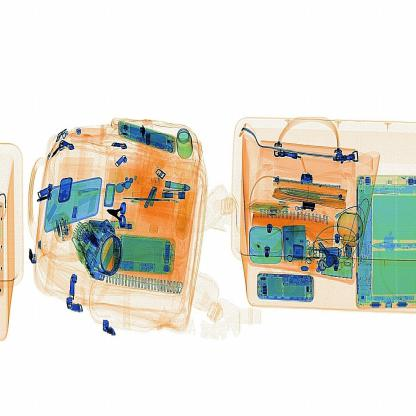gun: (104, 198, 134, 230)
